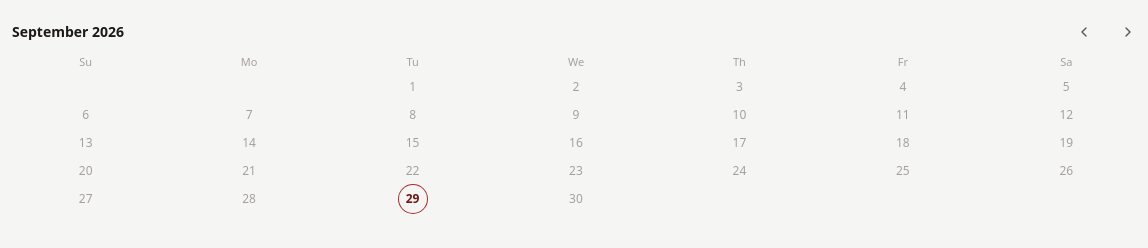
Calendar › moves between months
Click the button named "Previous month".
click(1084, 32)  # box [1064,12,1104,52]
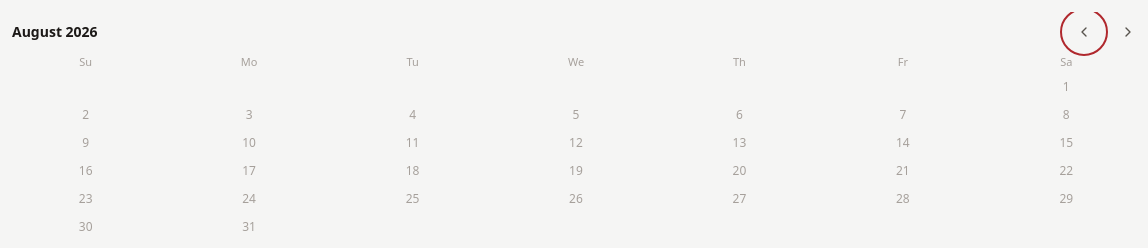
expect the heading "August 2026" is shown: met, box [12,22,98,41]
expect the number of links is 31: met
